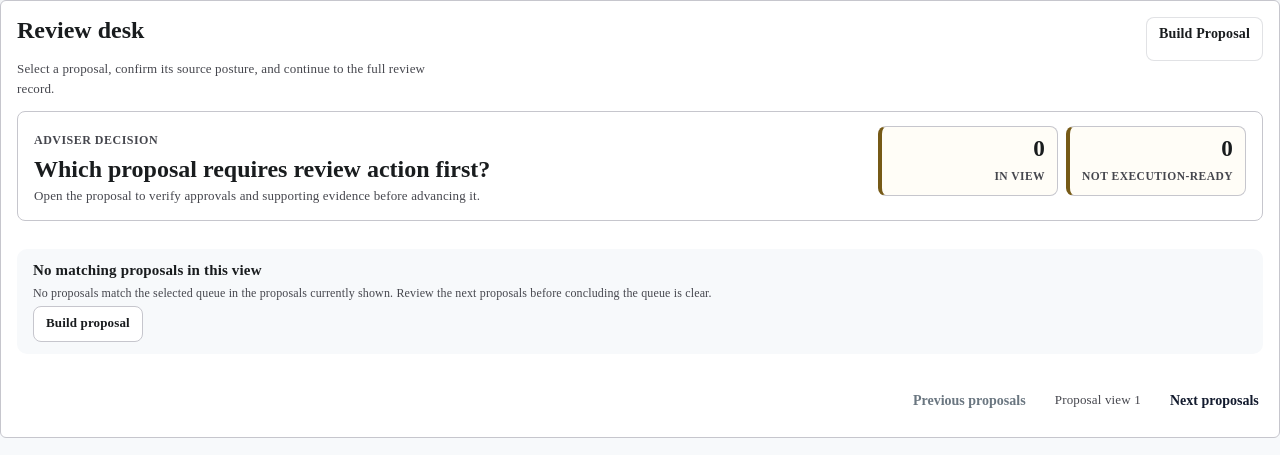
it: ProposalLifecycleWorkspace › stops when a continuation cursor returns to a visited source window
What coordinates should you click on to do the following:
click the button "Next proposals"
I would click on:
 (1214, 401)
Its box is [1166,380,1263,422].
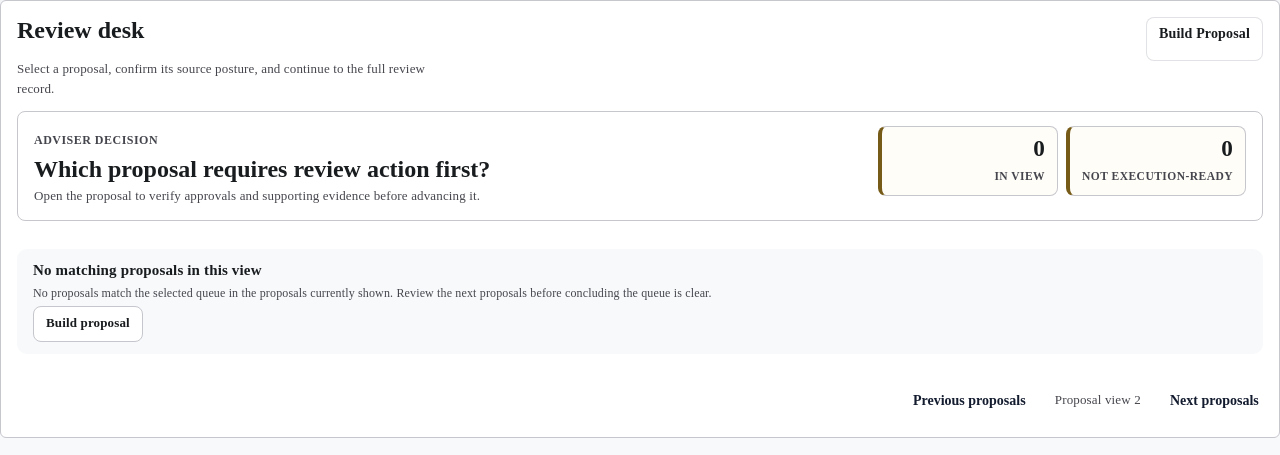
What coordinates should you click on to do the following:
click the button "Next proposals"
I would click on:
 (1214, 401)
Its box is [1166,380,1263,422].
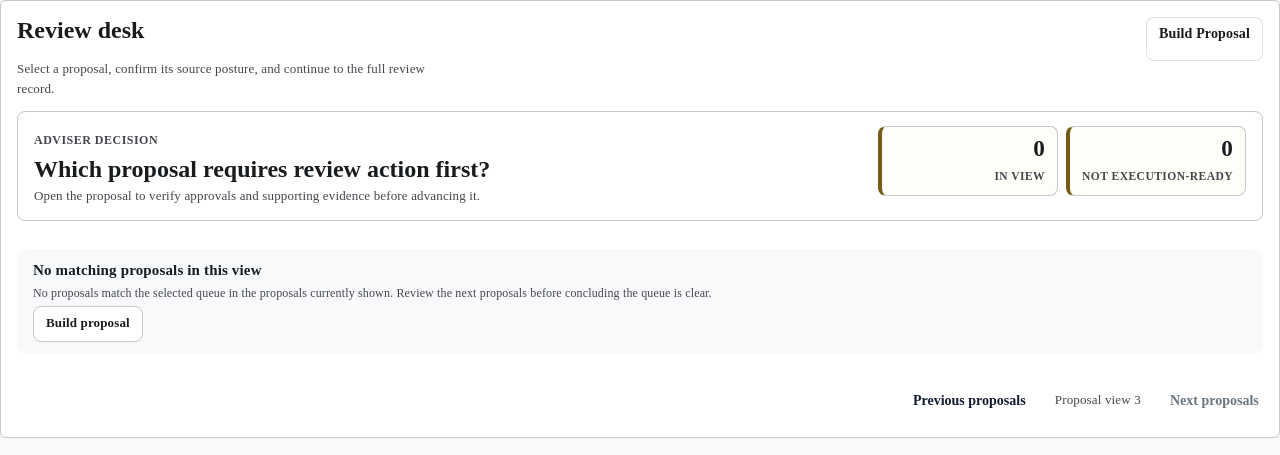
Expected: the heading "No matching proposals in this view" is shown, [33,261,262,281]
Result: the button "Next proposals" is disabled at [1166,380,1263,422]
Result: the text "Proposal view 3" is shown at [1055,392,1141,407]
